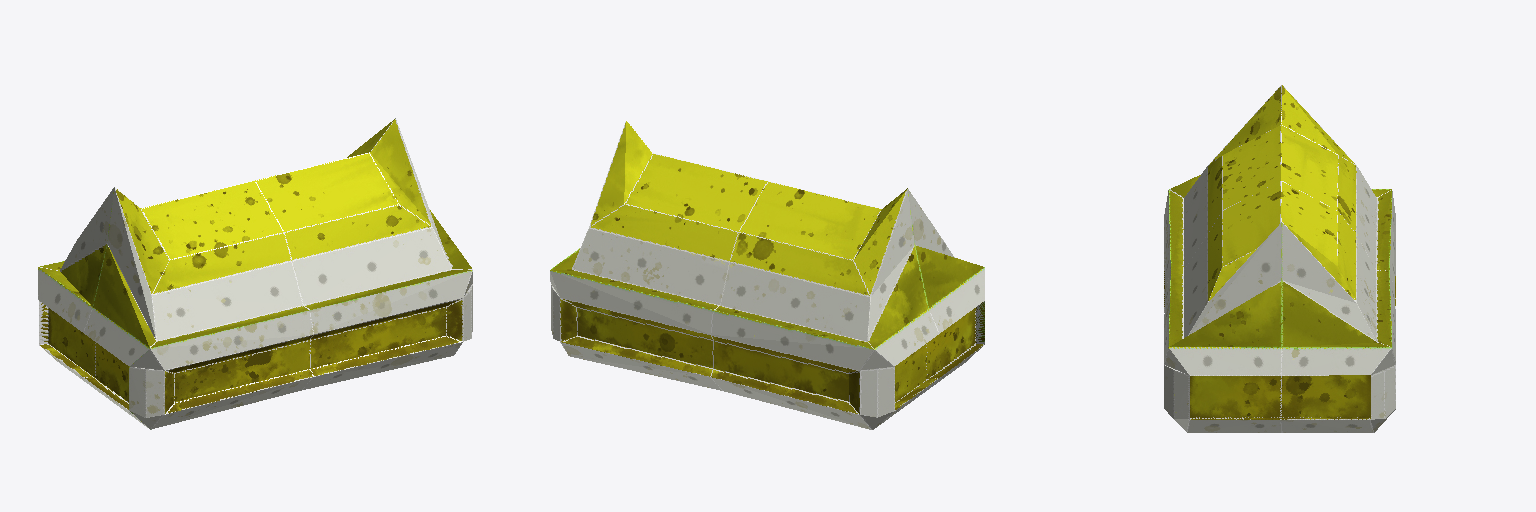
3 renders of one model, left to right at view 1: azimuth 30°, elevation 25°; view 2: azimuth 150°, elevation 25°; view 3: azimuth 270°, elevation 25°, orthographic.
Parts seen in each view (by area): view 1: Box002; view 2: Box002; view 3: Box002.
Part boxes in pixels (x1,y1,x2,y2): Box002: (38,118,472,429); Box002: (550,120,984,429); Box002: (1164,85,1395,432).
Bounding box in the file's own units: 53.31 × 30.43 × 31.17.
Materials: 1 (1 with a texture image).